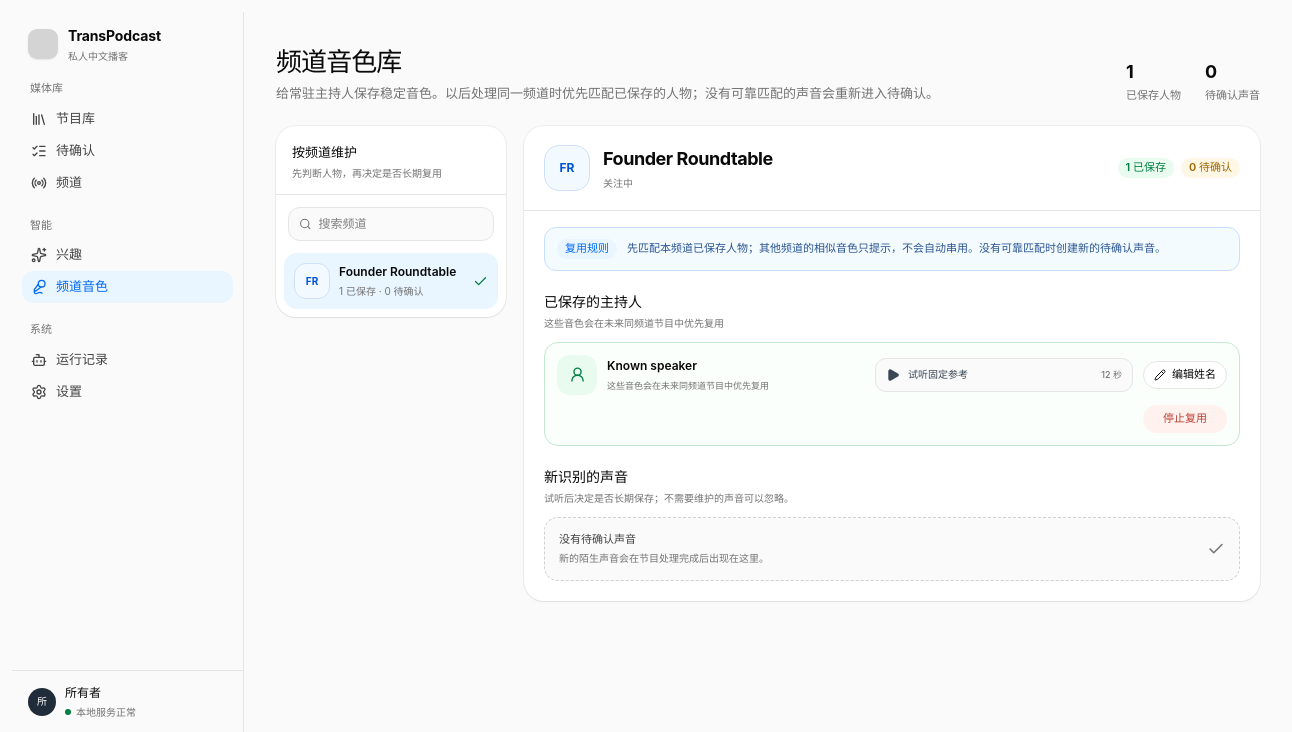
Scenario: keeps a failed profile action scoped to that profile
Step 1. Click the button "停止复用" → {"x": 1185, "y": 419}, box [1143,405,1227,433]
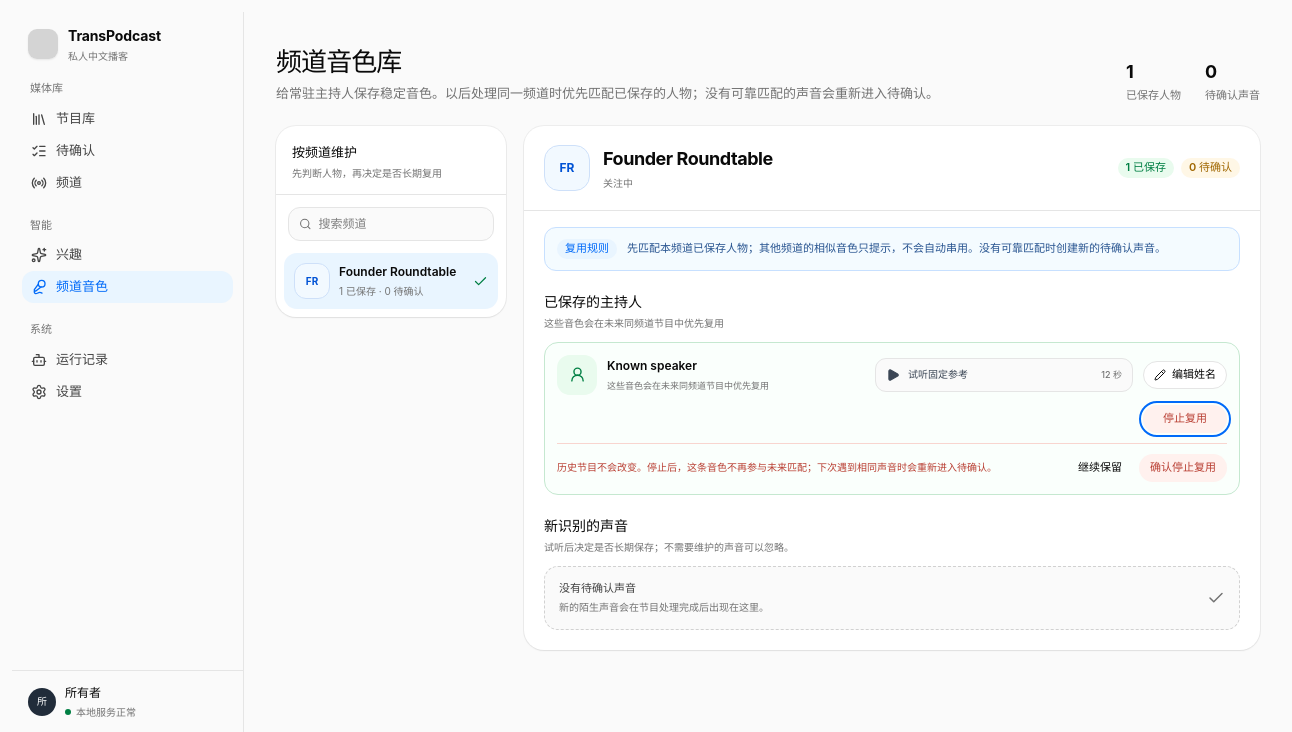
Step 2. Click the button "确认停止复用" → {"x": 1183, "y": 468}, box [1139,454,1227,482]
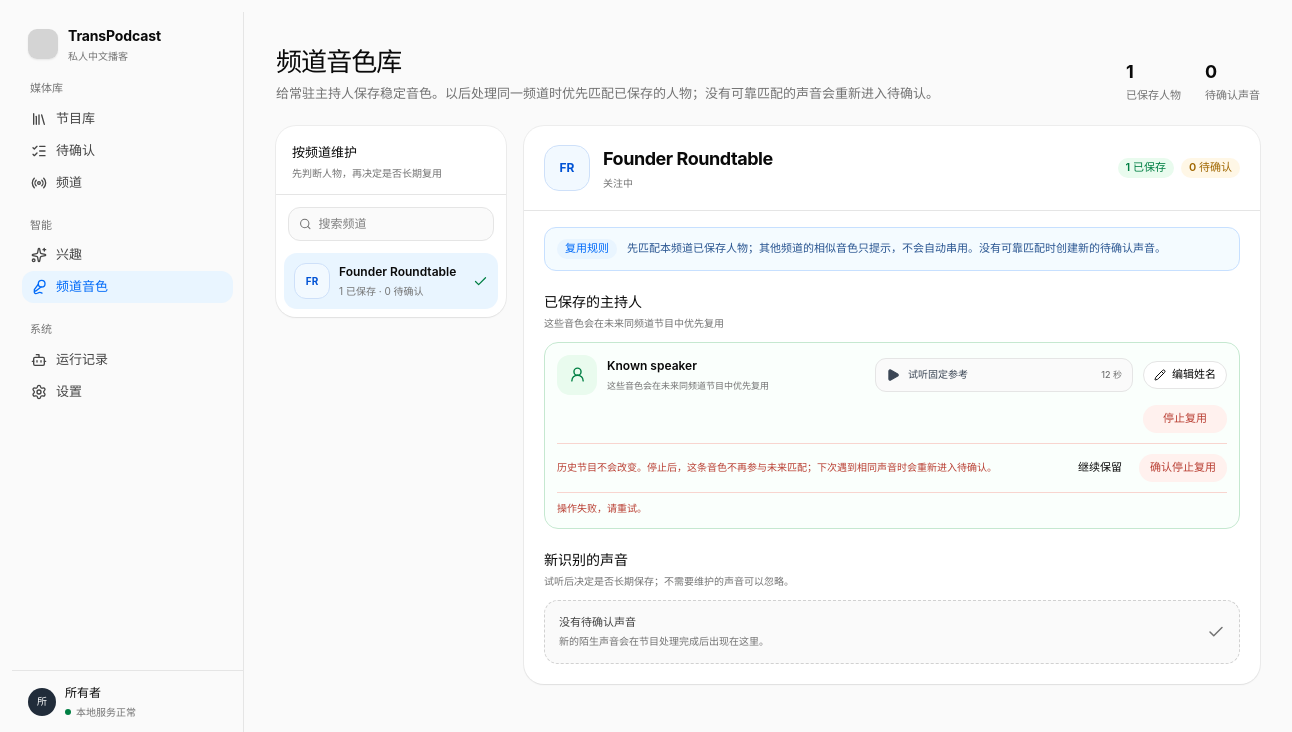
Expected: the button "确认停止复用" is shown, [1139,454,1227,482]
Expected: the message reads "操作失败，请重试。", [557,502,647,514]
